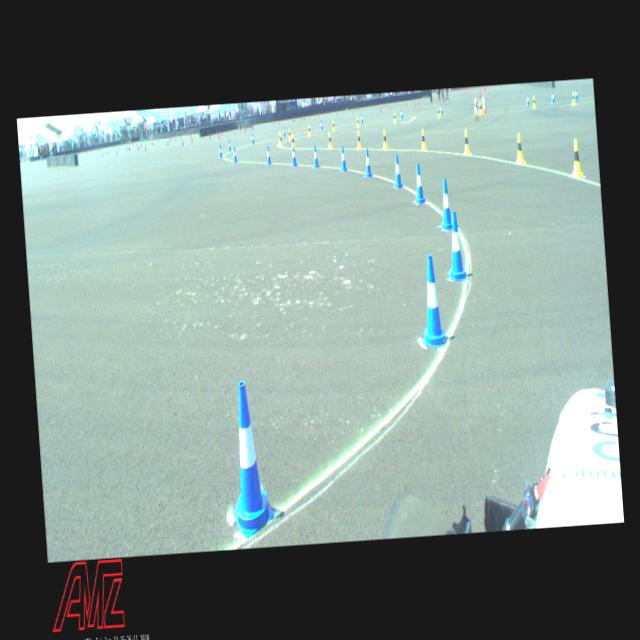blue_cone: (224, 380, 275, 538), (417, 252, 448, 348), (445, 210, 466, 280), (438, 179, 452, 230), (413, 162, 425, 203), (392, 154, 402, 188), (364, 149, 372, 177), (338, 145, 346, 170), (312, 145, 318, 167), (290, 146, 296, 166), (266, 146, 271, 163), (232, 146, 237, 162), (218, 144, 222, 158), (550, 91, 554, 103), (574, 88, 578, 99), (282, 126, 286, 136), (250, 133, 253, 144), (360, 113, 363, 123), (400, 108, 403, 118), (478, 99, 480, 111), (228, 140, 230, 151), (526, 94, 528, 105), (440, 104, 442, 114), (320, 120, 322, 129)
large_orange_cone: (482, 95, 486, 114), (473, 98, 477, 116), (474, 94, 478, 110), (481, 93, 484, 109)
yellow_cone: (570, 139, 582, 178), (514, 132, 524, 163), (462, 130, 470, 154), (420, 128, 426, 150), (382, 129, 387, 149), (356, 130, 361, 148), (290, 134, 296, 148), (327, 132, 332, 148), (532, 95, 536, 108), (570, 92, 574, 105), (278, 134, 282, 146), (478, 102, 482, 114), (356, 116, 359, 128), (307, 124, 310, 136), (288, 128, 291, 140), (437, 106, 440, 118), (393, 112, 396, 123), (278, 131, 280, 144), (332, 120, 334, 130)
